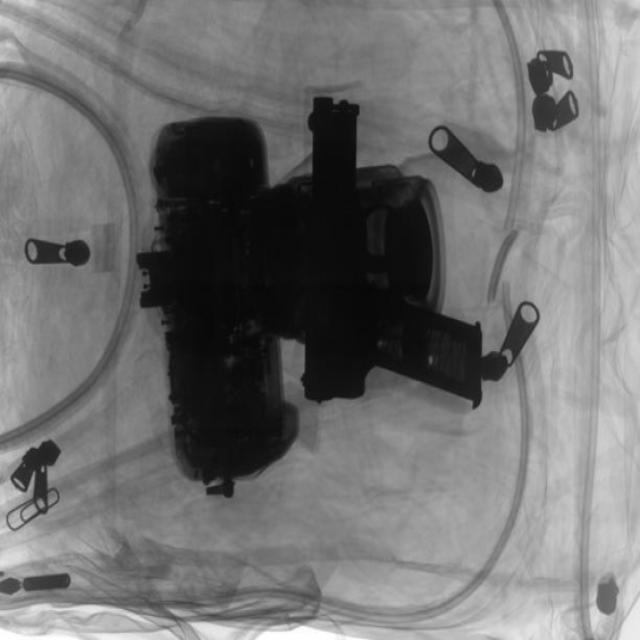GUN: (301, 86, 497, 412)
